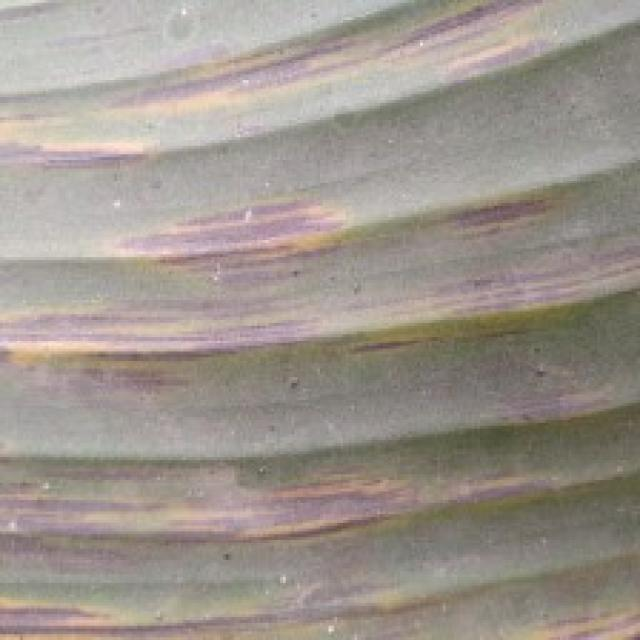Early_leaf_spot: (0, 406, 451, 549), (0, 543, 640, 640), (149, 0, 569, 120), (0, 272, 323, 392), (65, 170, 368, 290), (362, 256, 640, 369), (0, 112, 174, 188), (434, 434, 588, 518), (422, 181, 570, 264)
